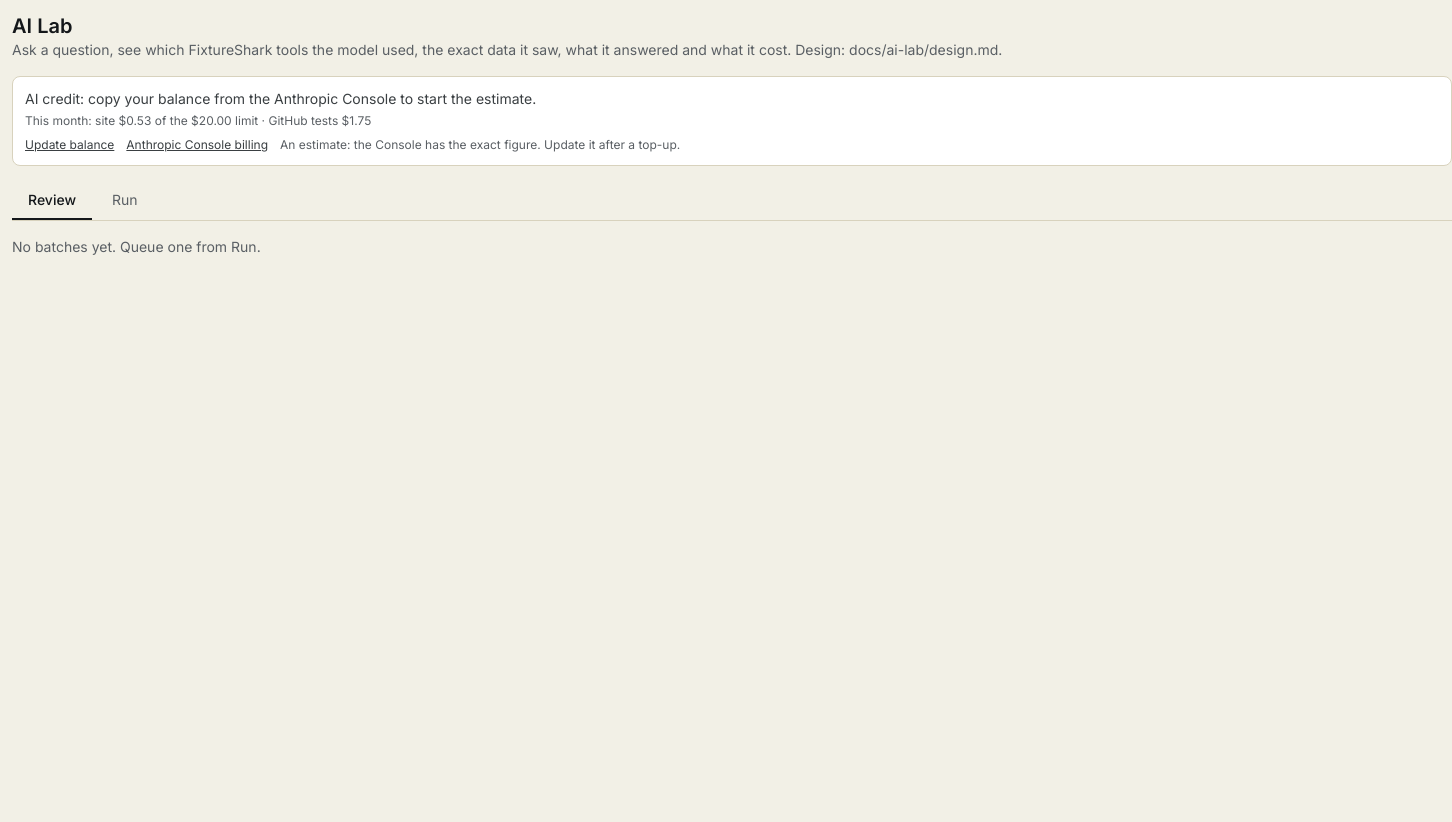
it: AiLabPage › shows the function error rather than failing silently
This screenshot has width=1452, height=822.
Click the tab "Run" at (125, 201), box [96,182,154,220]
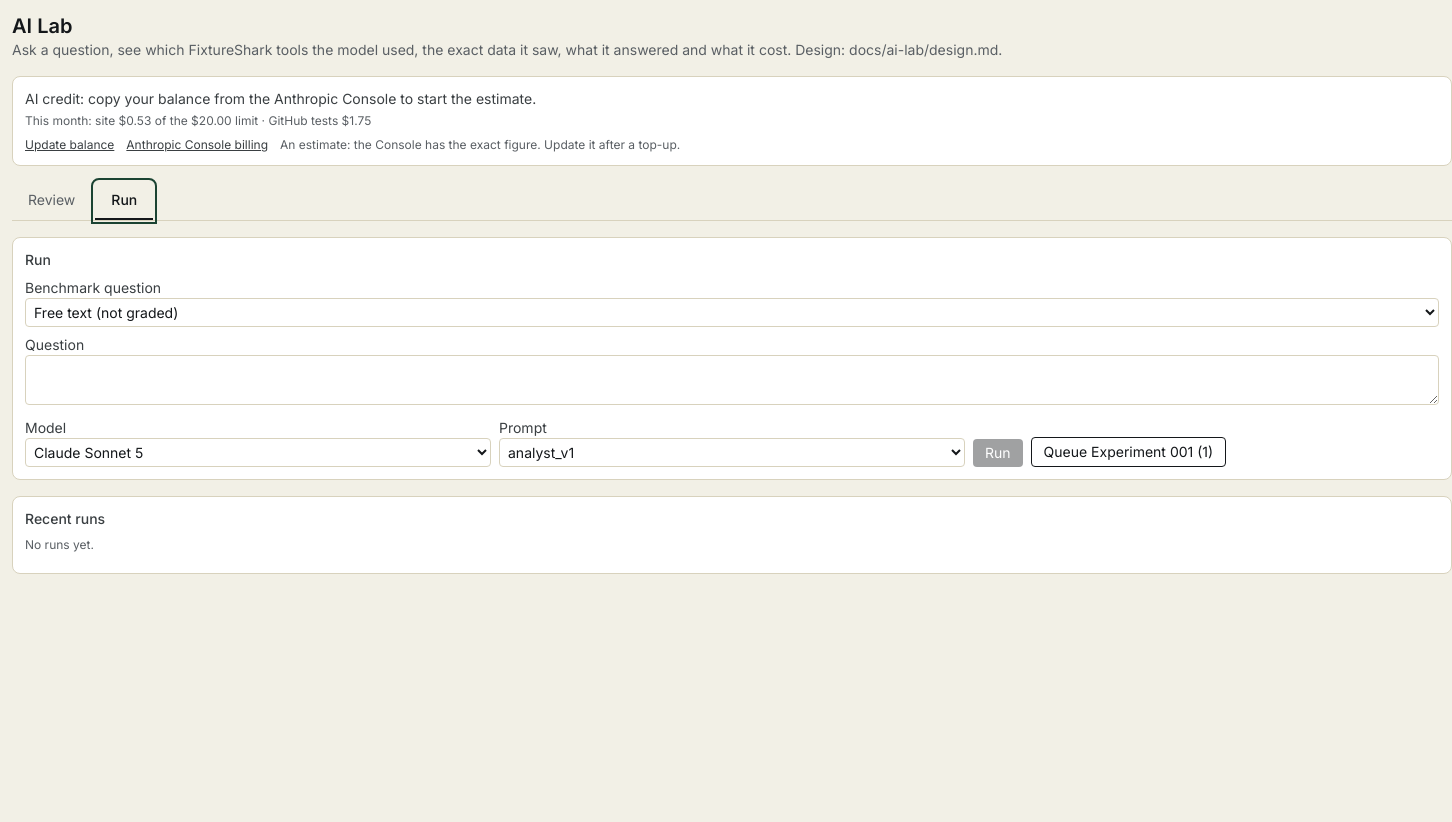
Type "Who is top?" into the text box labelled "Question" at (732, 380), box [25,355,1439,405]
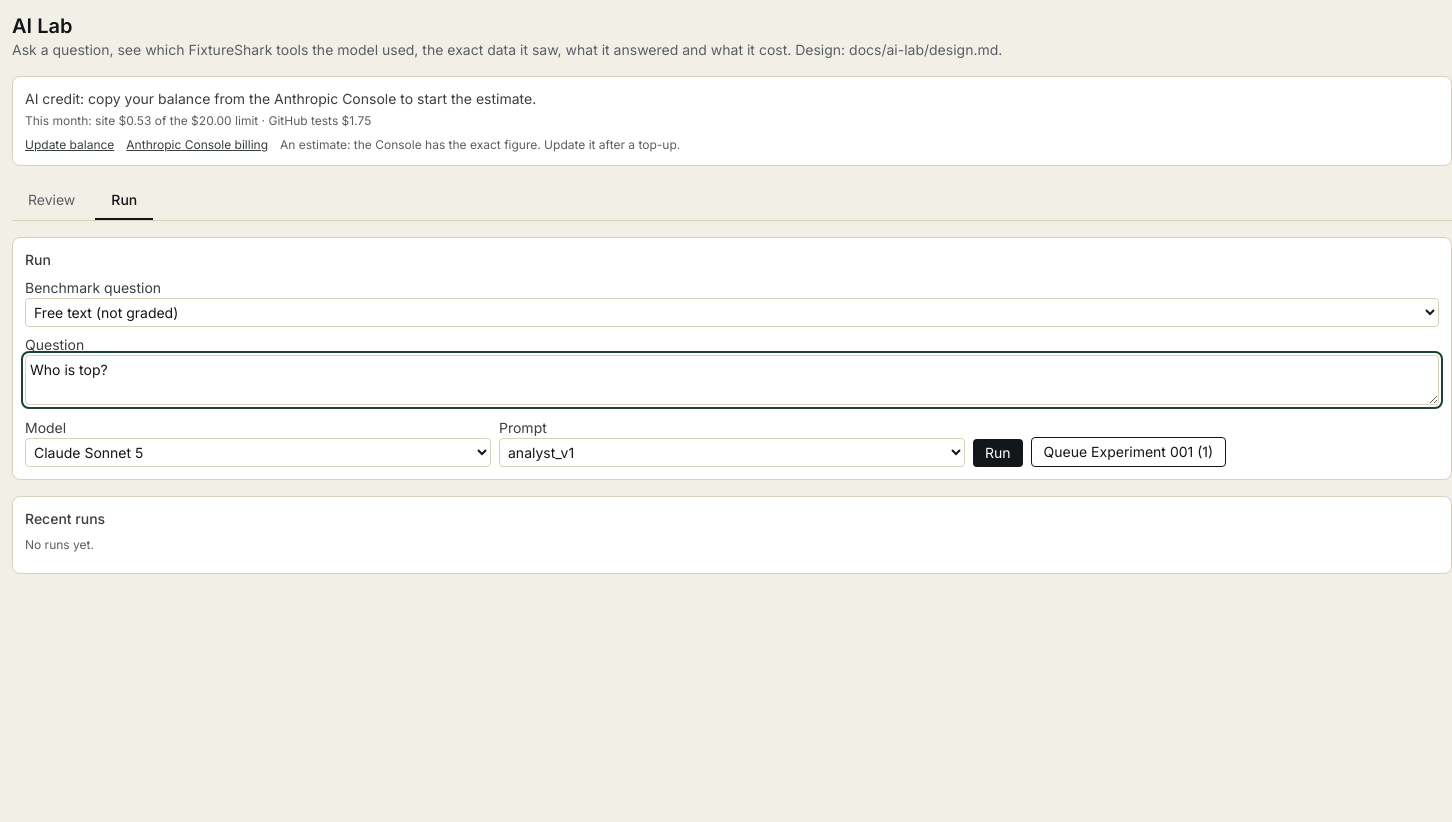
Click the button "Run" at (998, 453), box [973,439,1023,467]
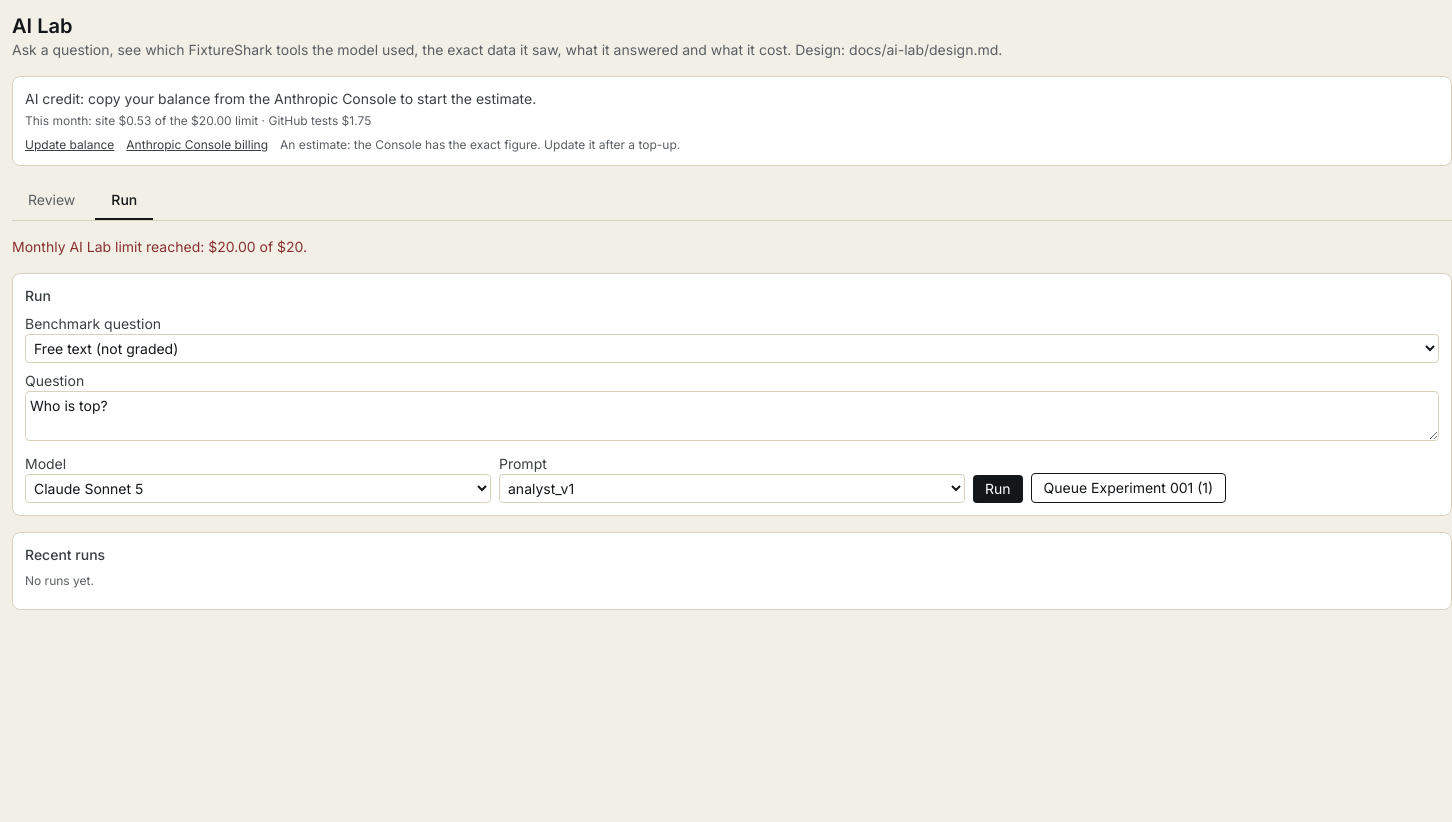
Expected: the text "Monthly AI Lab limit reached: $20.00 of $20." is shown, [12,238,307,255]
